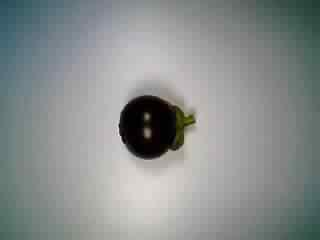mangosteen: (112, 89, 198, 167)
